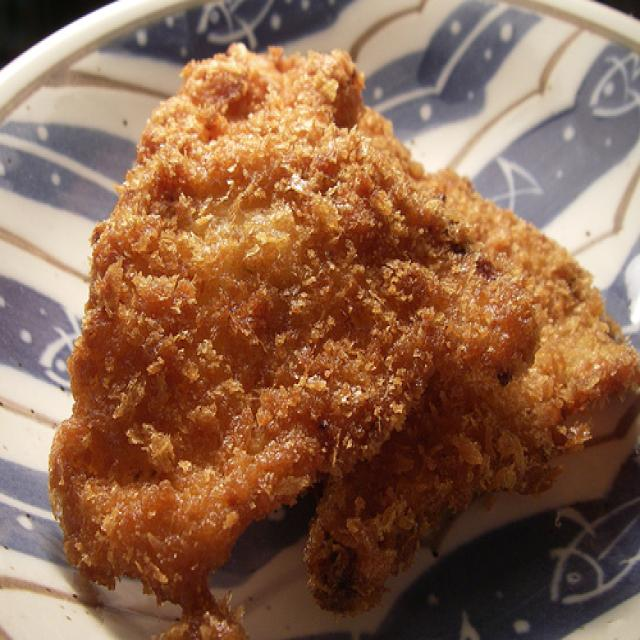炸货点心: (23, 68, 640, 606)
熟制海鲜: (23, 68, 640, 606)
